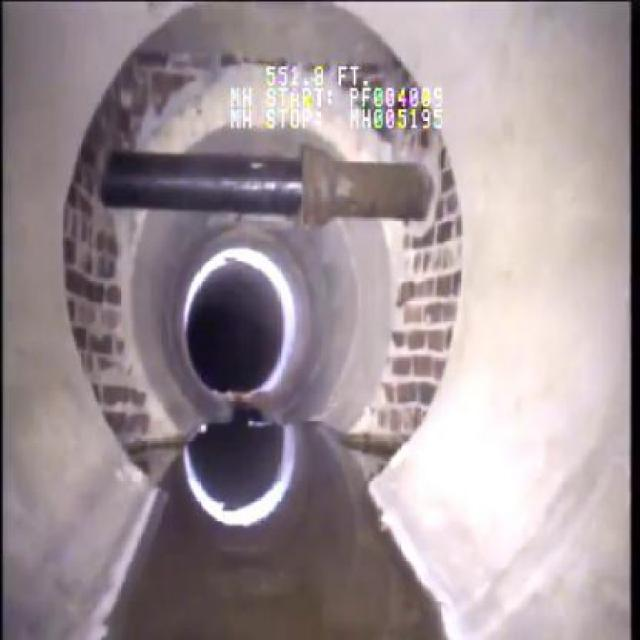Utility intrusion: (97, 144, 435, 224)
